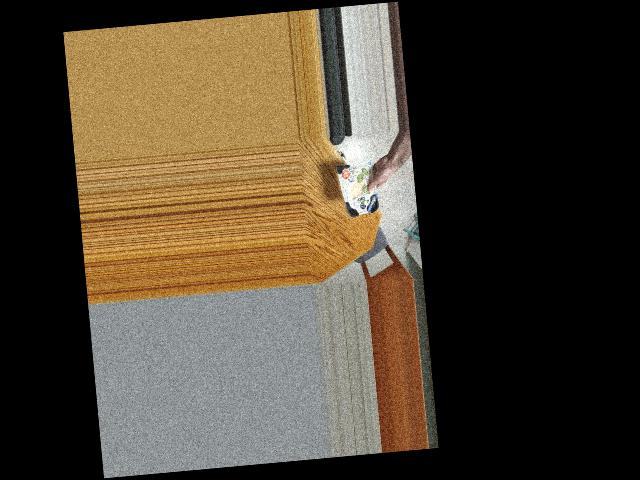cheese: (336, 160, 385, 217)
